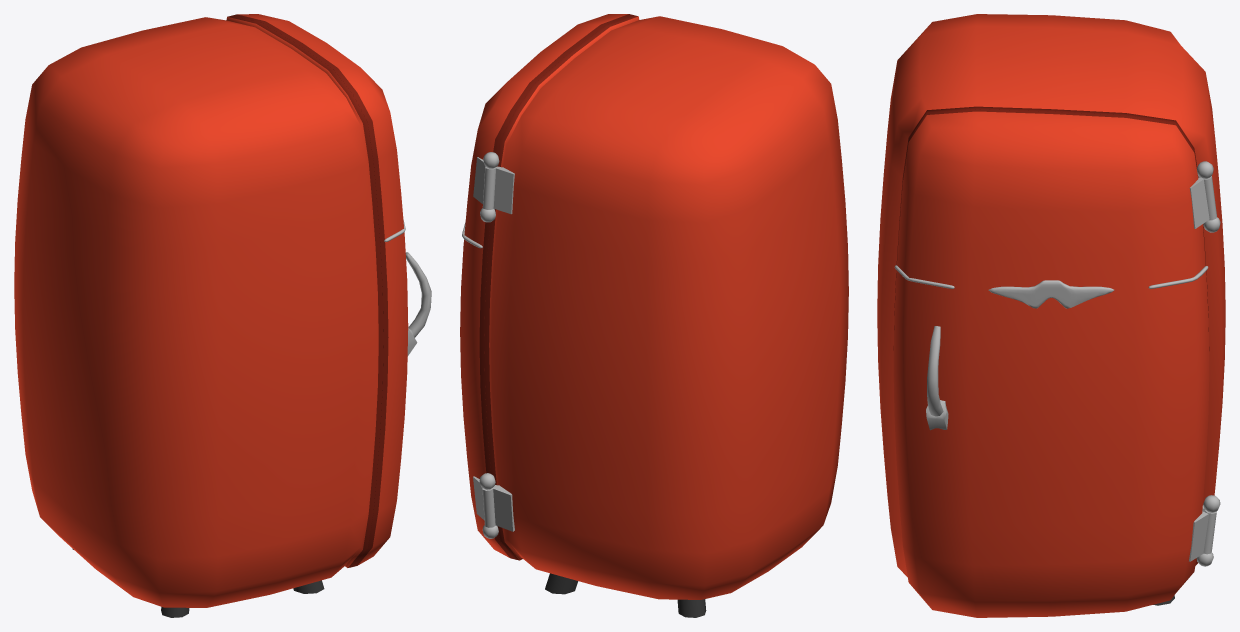
The model's file is Fridge.fbx.
3 views of the same model, side by side, from view 1: azimuth 30°, elevation 25°; view 2: azimuth 150°, elevation 25°; view 3: azimuth 270°, elevation 25° (orthographic). The views are drawn at different scales.
Visible parts, largest first — view 1: Fridge, Fridge_Door; view 2: Fridge, Fridge_Door; view 3: Fridge_Door, Fridge.
Boxes of the visible parts, left/top/right/bottom form: Fridge: left=14, top=15, right=383, bottom=617; Fridge_Door: left=232, top=14, right=431, bottom=566; Fridge: left=479, top=15, right=848, bottom=617; Fridge_Door: left=460, top=14, right=633, bottom=559; Fridge_Door: left=893, top=109, right=1209, bottom=617; Fridge: left=877, top=14, right=1225, bottom=605.
Size of the model in its own units: 130 by 199 by 121.
